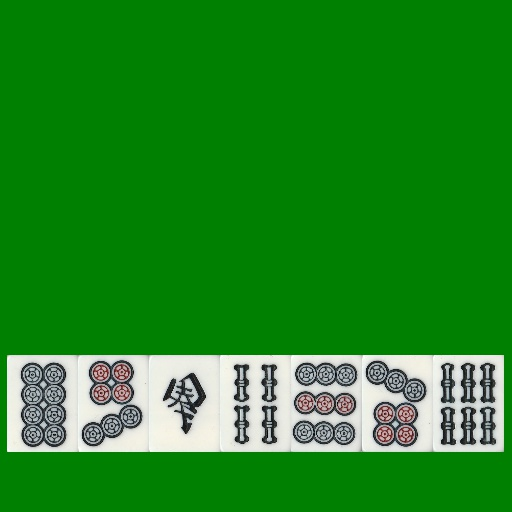4s: (220, 355, 291, 452)
6s: (433, 355, 504, 452)
7p: (78, 355, 149, 452), (362, 355, 433, 452)
8p: (7, 355, 78, 452)
9p: (291, 355, 362, 452)
south: (149, 355, 220, 452)
